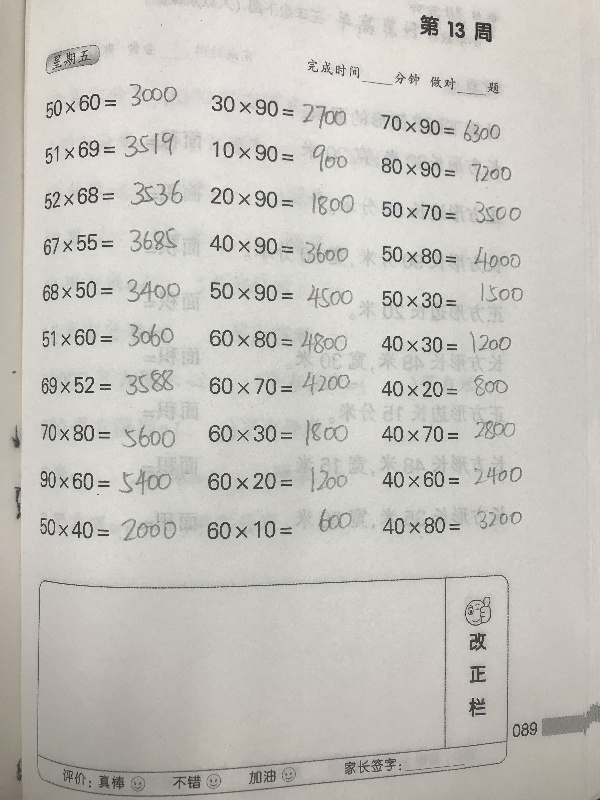equation: (42, 76, 180, 123), (36, 509, 178, 550), (206, 505, 355, 544), (39, 175, 183, 213), (39, 225, 183, 263), (378, 239, 522, 275), (377, 151, 515, 188), (205, 367, 353, 401), (207, 185, 355, 219), (379, 504, 525, 538), (379, 458, 524, 492), (205, 417, 353, 450), (38, 363, 174, 398), (206, 280, 354, 312), (209, 140, 351, 173), (38, 276, 184, 308), (38, 320, 184, 352), (36, 466, 175, 499), (37, 419, 176, 452), (204, 465, 350, 496), (205, 326, 351, 357), (378, 282, 527, 312), (378, 414, 516, 446), (208, 94, 350, 125), (206, 234, 352, 264), (378, 196, 524, 226), (377, 325, 513, 356), (380, 371, 516, 402), (41, 133, 178, 163), (376, 112, 504, 142), (415, 14, 496, 42)
